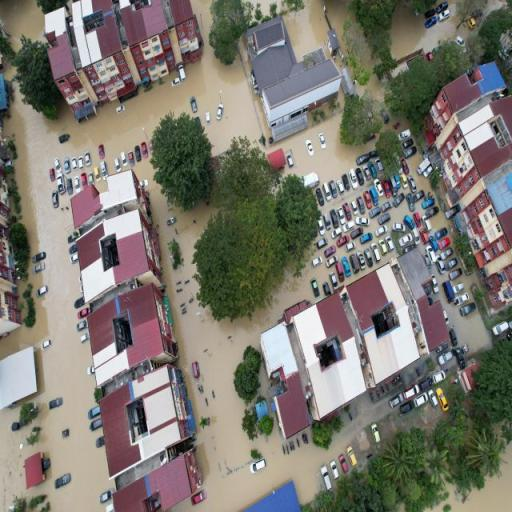flood: (0, 51, 262, 512), (134, 158, 418, 512), (278, 115, 366, 182), (392, 0, 462, 60), (458, 445, 512, 512), (444, 301, 494, 356), (284, 0, 329, 60), (0, 0, 43, 50)
house: (285, 253, 443, 419), (428, 60, 512, 298), (40, 0, 205, 111), (96, 362, 196, 504), (240, 12, 346, 141), (85, 272, 177, 410), (258, 304, 323, 442), (66, 218, 164, 285), (70, 178, 146, 222), (1, 340, 40, 416), (230, 478, 308, 510)
